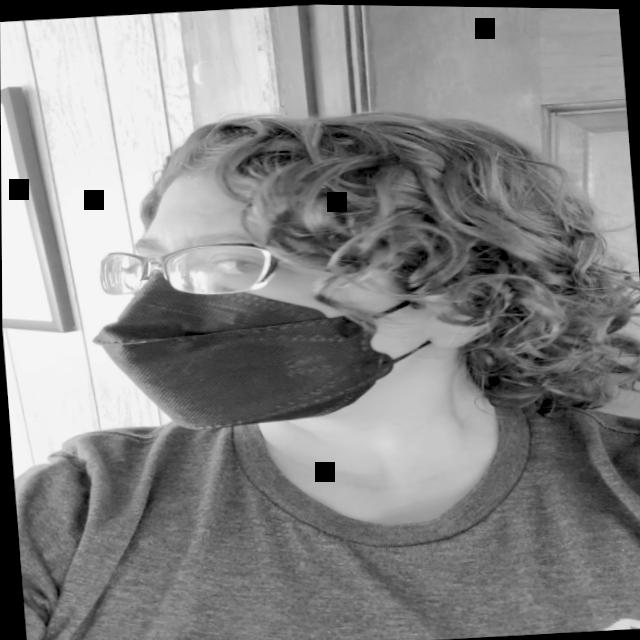Mask: (84, 152, 445, 440)
